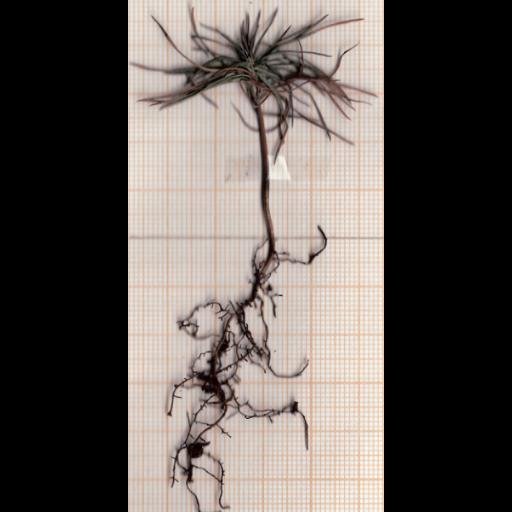flowerCedr: (133, 10, 359, 163)
rootCedr: (169, 233, 329, 511)
stemCedr: (255, 105, 275, 252)
